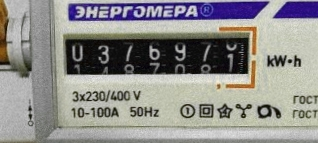0: (68, 40, 85, 61)
1: (225, 51, 236, 72)
3: (95, 42, 110, 65)
6: (147, 39, 161, 60)
7: (121, 38, 135, 62), (198, 39, 212, 62)
9: (172, 39, 186, 61)
screen: (56, 23, 260, 95)
